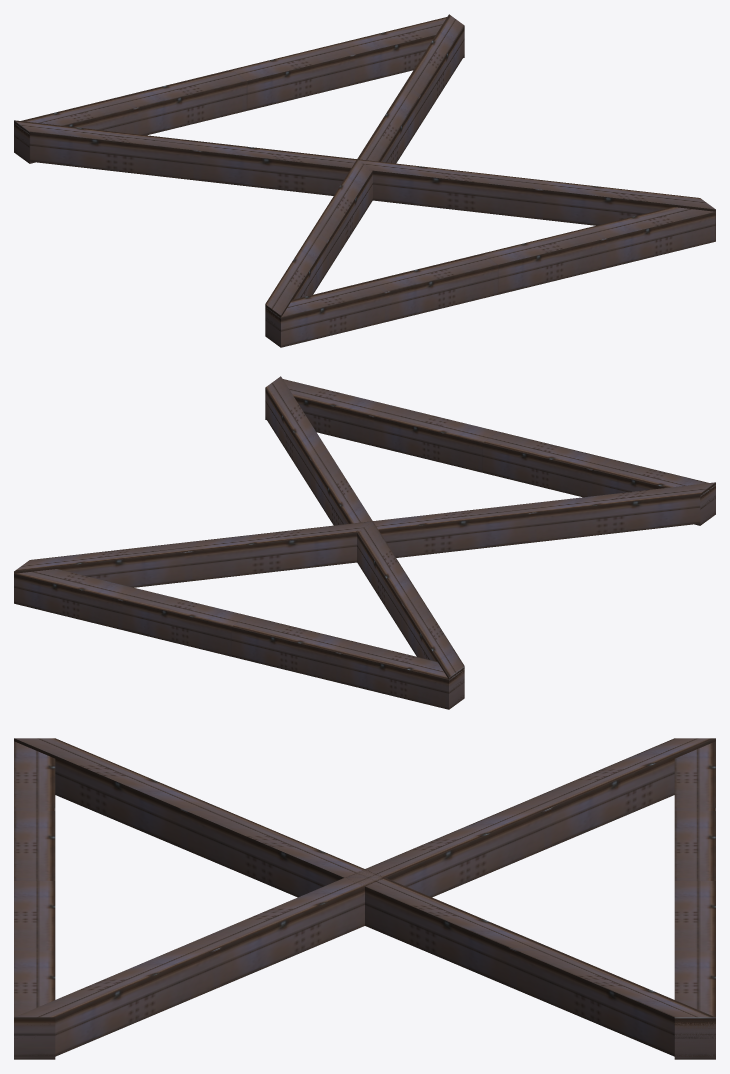
Rendered from schwebe_support.obj.
3 renders of one model, top to bottom at view 1: azimuth 30°, elevation 25°; view 2: azimuth 150°, elevation 25°; view 3: azimuth 270°, elevation 25°, orthographic. The views are drawn at different scales.
Size of the model in its own units: 4 by 0.2825 by 4.25.
1 material, 1 textured.
